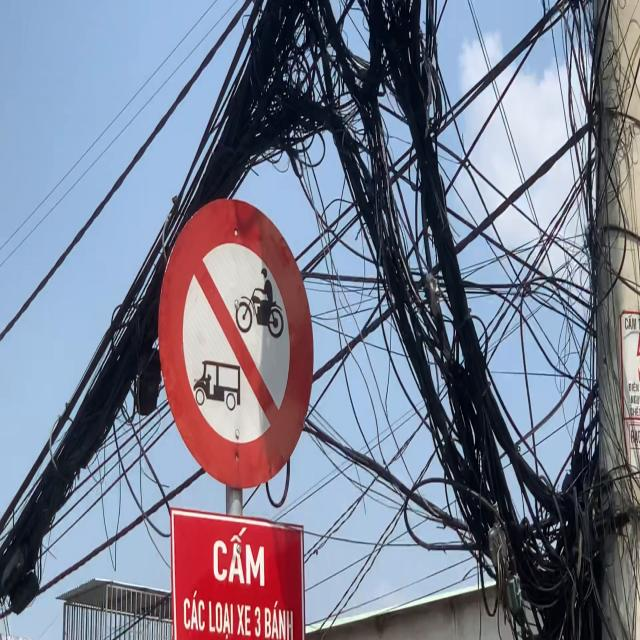Cam con lai: (156, 196, 315, 491)
